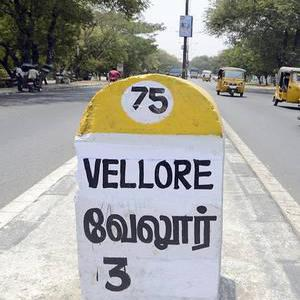kmstone: (74, 74, 225, 300)
